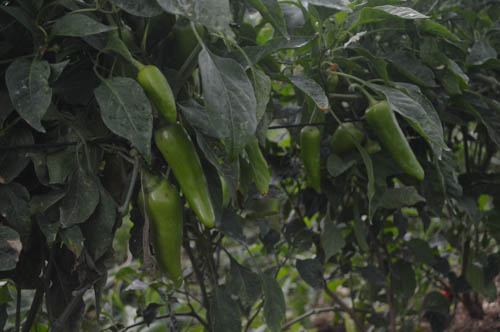ChiliPepper: (146, 123, 221, 228), (138, 176, 186, 287), (363, 104, 429, 183), (136, 69, 182, 123), (299, 125, 324, 198), (331, 116, 362, 156)
